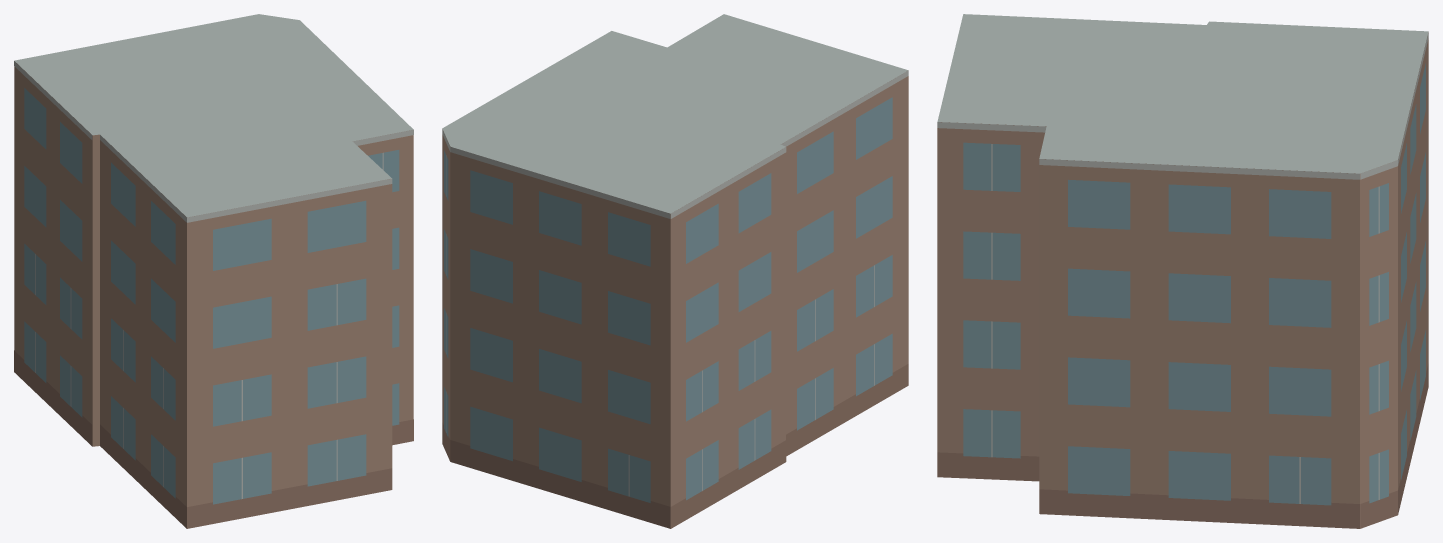
Rendered from survey-upis-32496009.glb.
3 renders of one model, left to right at view 1: azimuth 30°, elevation 25°; view 2: azimuth 150°, elevation 25°; view 3: azimuth 270°, elevation 25°, orthographic. The views are drawn at different scales.
Visible parts, largest first — view 1: survey-upis-32496009.tmp; view 2: survey-upis-32496009.tmp; view 3: survey-upis-32496009.tmp.
Part boxes in pixels (x1,y1,x2,y2): survey-upis-32496009.tmp: [14, 14, 413, 528]; survey-upis-32496009.tmp: [442, 14, 908, 528]; survey-upis-32496009.tmp: [937, 14, 1428, 528].
Bounding box in the file's own units: 13.56 × 14.06 × 17.63.
